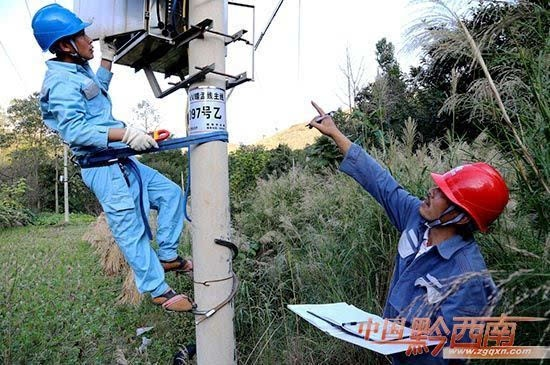blue: (29, 2, 95, 66)
red: (416, 161, 510, 237)
